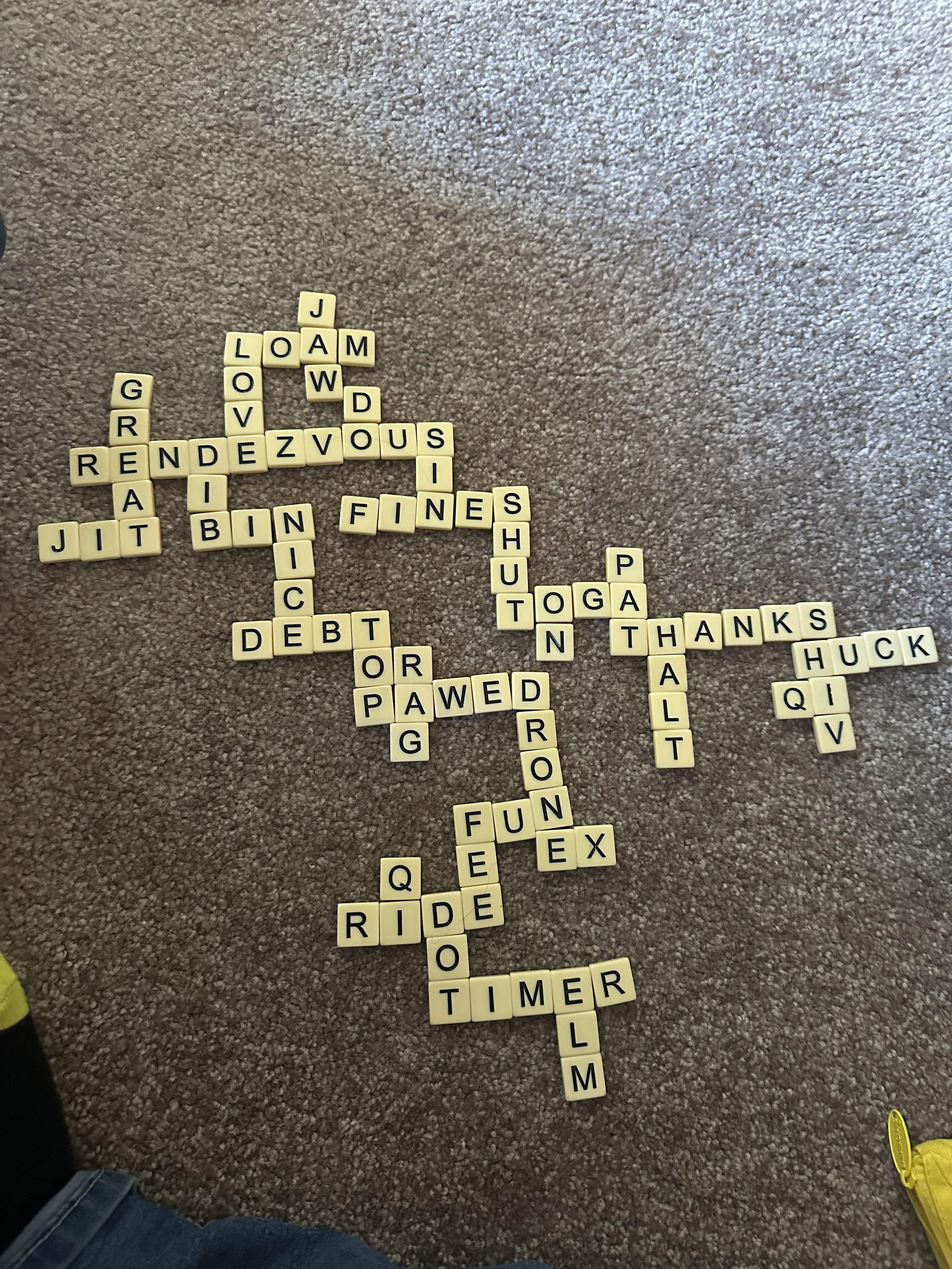Tile: (590, 957, 635, 1008), (560, 1055, 605, 1102), (556, 1011, 600, 1058), (551, 966, 594, 1014), (456, 841, 498, 890), (510, 970, 553, 1017), (462, 883, 505, 930), (422, 890, 464, 938), (427, 933, 468, 982), (492, 798, 536, 843), (428, 979, 471, 1025), (471, 974, 512, 1022), (380, 900, 422, 946), (530, 786, 571, 833), (337, 902, 379, 947), (379, 857, 422, 900), (188, 511, 232, 553), (521, 747, 562, 792), (453, 802, 494, 845), (226, 433, 269, 474), (38, 521, 79, 563), (813, 713, 856, 753), (537, 828, 576, 872), (117, 519, 161, 558), (232, 620, 273, 661), (471, 673, 512, 714), (273, 540, 315, 580), (80, 520, 120, 562), (576, 824, 615, 867), (791, 639, 832, 679), (653, 729, 694, 769), (828, 635, 869, 675), (354, 686, 394, 727), (113, 480, 154, 520), (264, 429, 306, 468), (230, 508, 272, 547), (394, 683, 434, 723), (149, 441, 189, 481), (352, 647, 393, 686), (771, 680, 812, 719), (188, 437, 230, 475), (434, 677, 472, 719), (110, 372, 153, 409), (273, 616, 312, 656), (109, 444, 149, 483), (862, 630, 902, 669), (70, 447, 110, 486), (390, 722, 429, 762), (760, 604, 800, 643), (517, 710, 556, 750), (339, 495, 378, 535), (649, 691, 689, 730), (810, 676, 850, 715), (722, 609, 763, 647), (455, 490, 493, 531), (273, 504, 315, 541), (186, 475, 228, 512), (797, 601, 836, 640), (262, 330, 301, 369), (305, 363, 344, 402), (300, 326, 339, 365), (898, 627, 937, 666), (224, 399, 264, 437), (337, 328, 375, 368), (313, 613, 351, 653), (351, 610, 391, 648), (303, 427, 343, 465), (109, 409, 150, 446), (495, 593, 534, 631), (394, 646, 433, 684), (683, 612, 722, 650), (647, 654, 686, 692), (274, 578, 313, 616), (534, 585, 573, 623), (378, 495, 416, 533), (647, 617, 685, 655), (491, 556, 528, 595), (609, 619, 648, 656), (536, 623, 573, 661), (342, 423, 380, 460), (343, 386, 381, 423), (415, 454, 452, 492), (513, 671, 549, 710), (223, 367, 263, 402), (610, 582, 647, 619), (572, 582, 609, 619), (379, 423, 417, 459), (492, 486, 530, 522), (492, 522, 530, 558), (298, 291, 336, 327), (416, 493, 453, 529), (606, 547, 643, 583), (223, 332, 262, 366), (416, 423, 454, 457)
